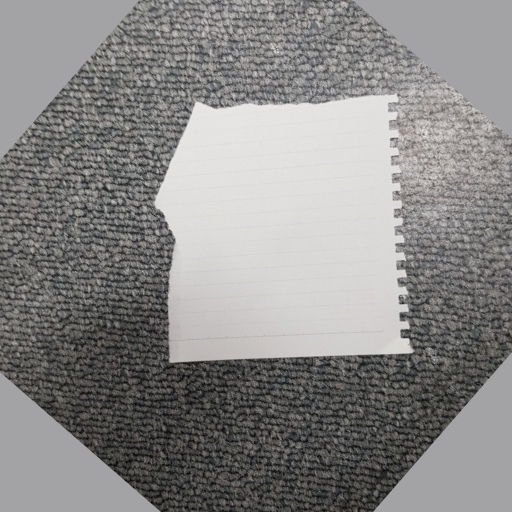Paper_2: (163, 85, 433, 367)
